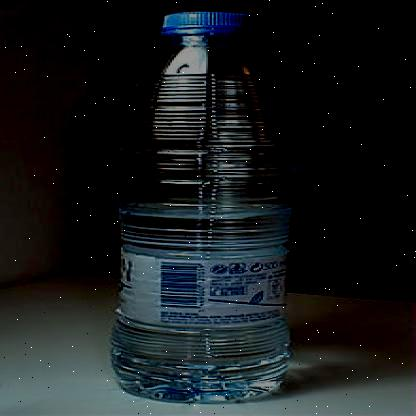Plastic Bottle: (112, 12, 301, 403)
